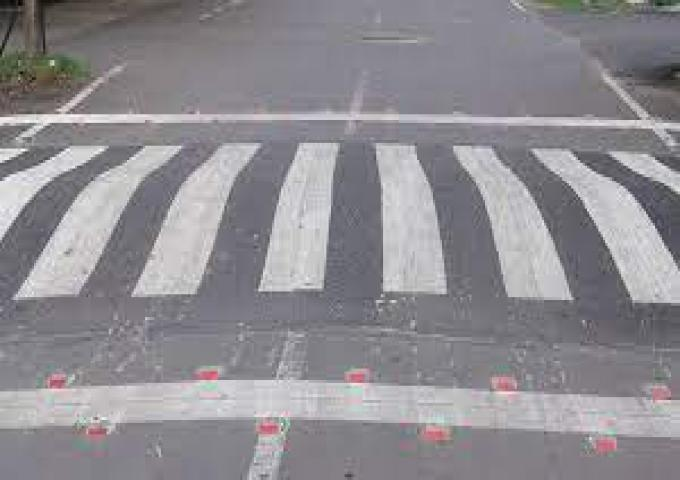speedbreaker: (0, 118, 678, 372)
